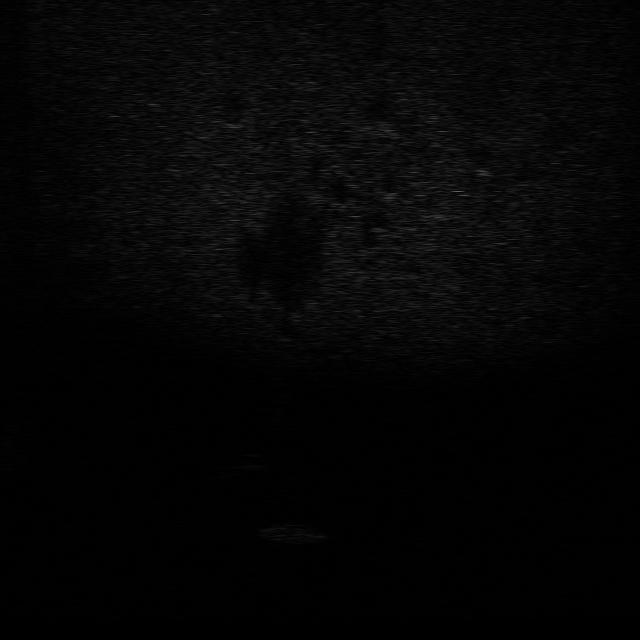ball: (229, 447, 270, 474)
circle cage: (252, 518, 332, 546)
human body: (250, 363, 306, 428)
